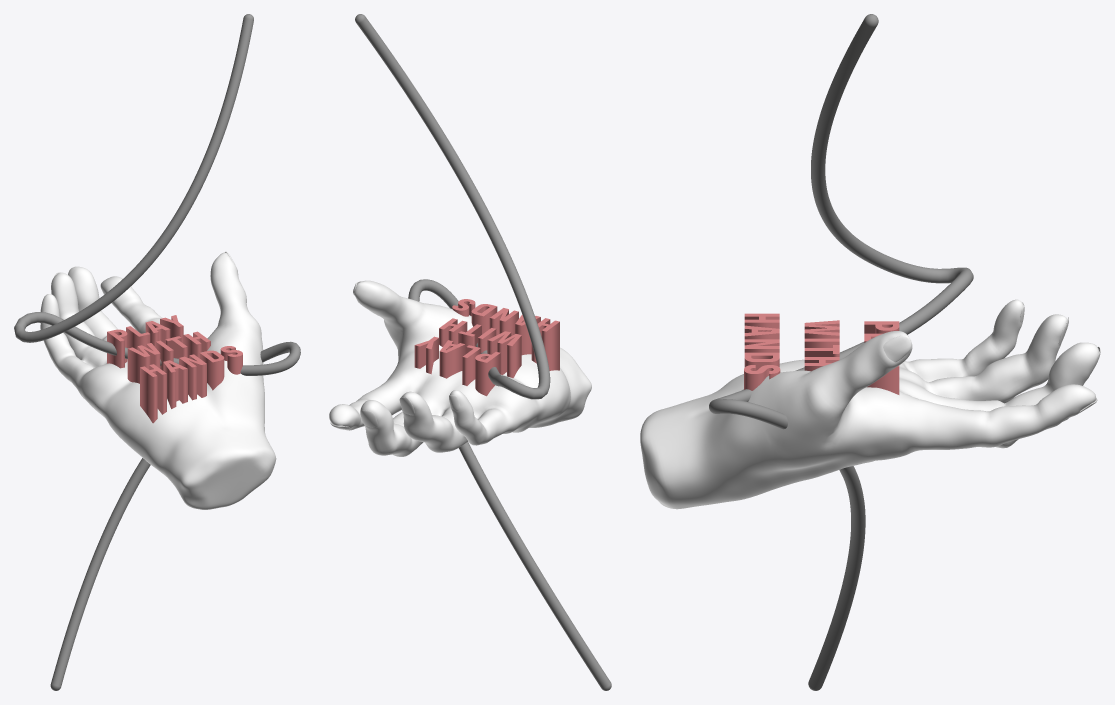
Rendered from SuperG2.glb.
3 views of the same model, side by side, from view 1: azimuth 30°, elevation 25°; view 2: azimuth 150°, elevation 25°; view 3: azimuth 270°, elevation 25° (orthographic). The views are drawn at different scales.
Visible parts, largest first — view 1: kare-decor, tarzanello, Text; view 2: kare-decor, tarzanello, Text; view 3: kare-decor, tarzanello, Text.
Part boxes in pixels (<box>): kare-decor: <box>40,251,276,509</box>; tarzanello: <box>14,14,300,690</box>; Text: <box>107,315,242,423</box>; kare-decor: <box>329,280,591,456</box>; tarzanello: <box>355,14,611,690</box>; Text: <box>414,299,559,396</box>; kare-decor: <box>640,299,1100,509</box>; tarzanello: <box>709,14,973,690</box>; Text: <box>744,313,899,394</box>.
Size of the model in its own units: 1.21 by 3.17 by 1.62.
